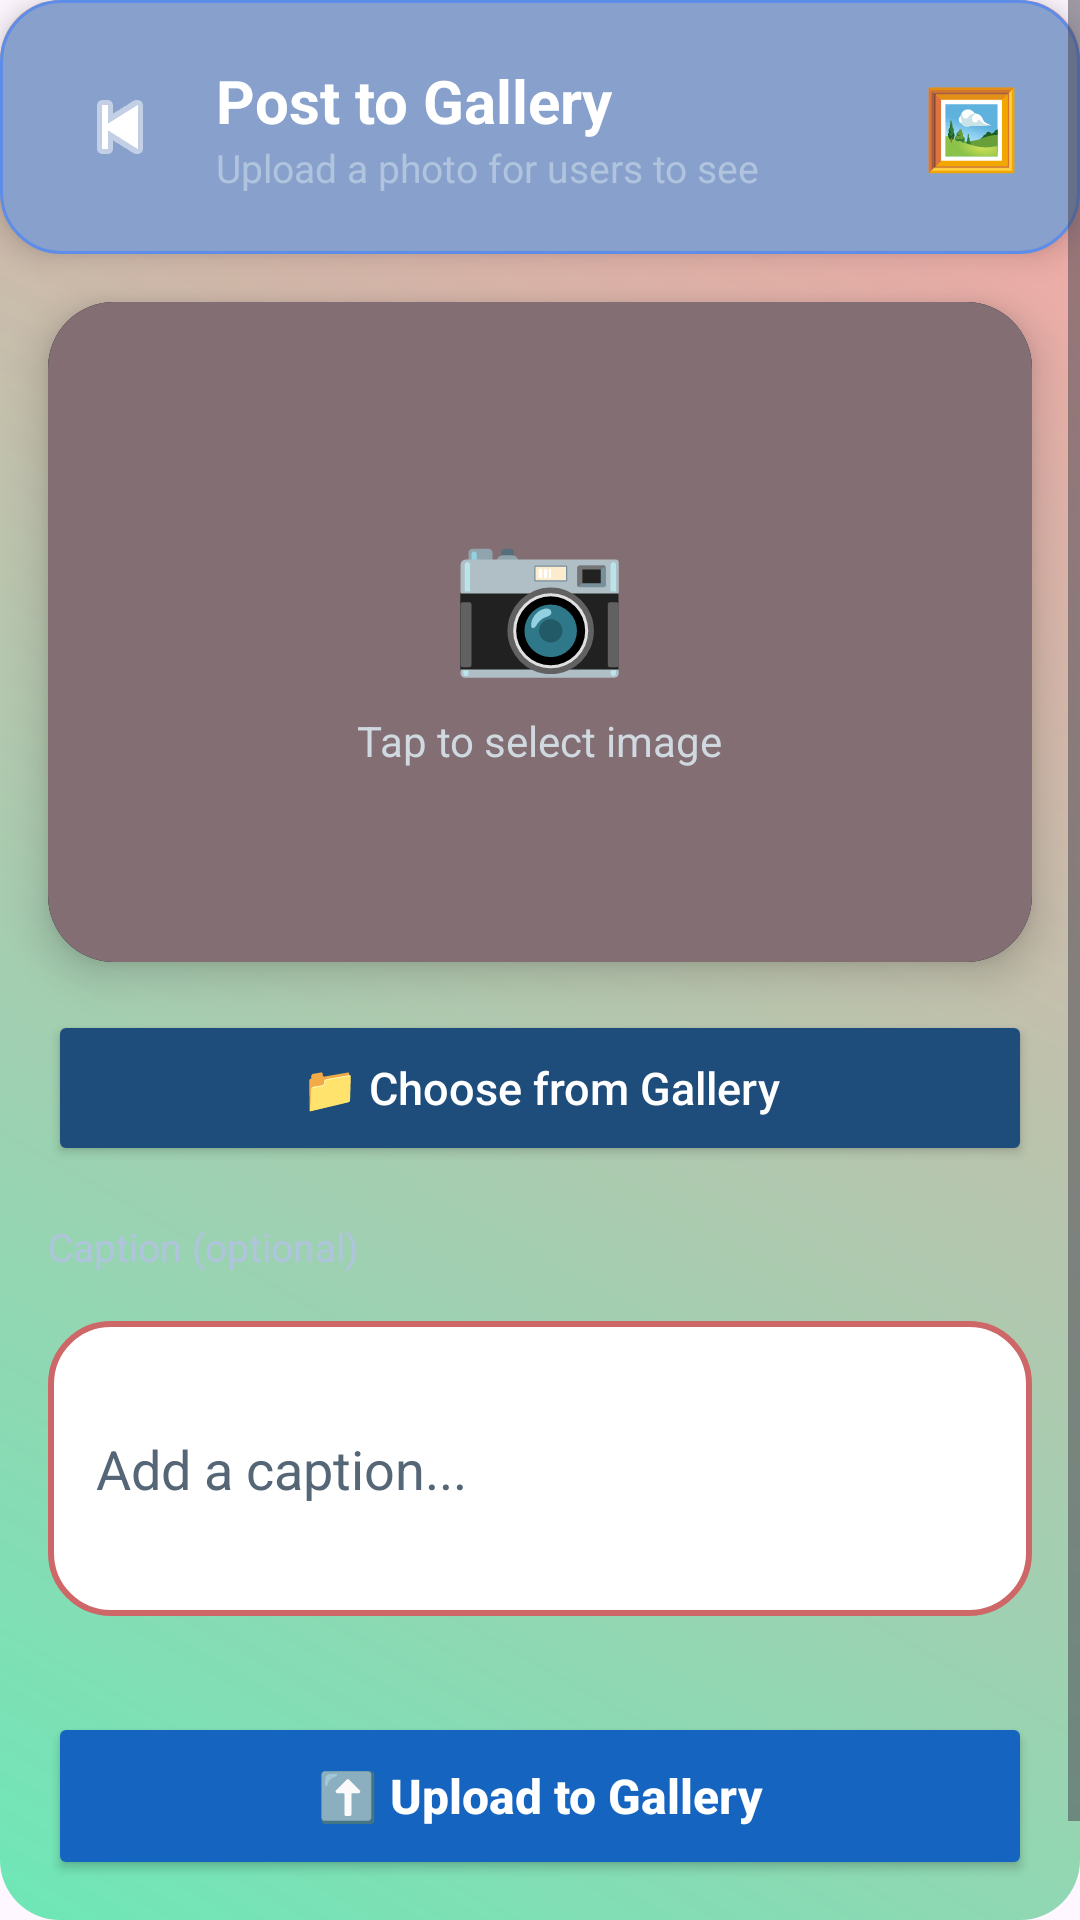

Icon click points for this 1080x1920 phone screenshot, format [x,y]:
previous: [120,127]
